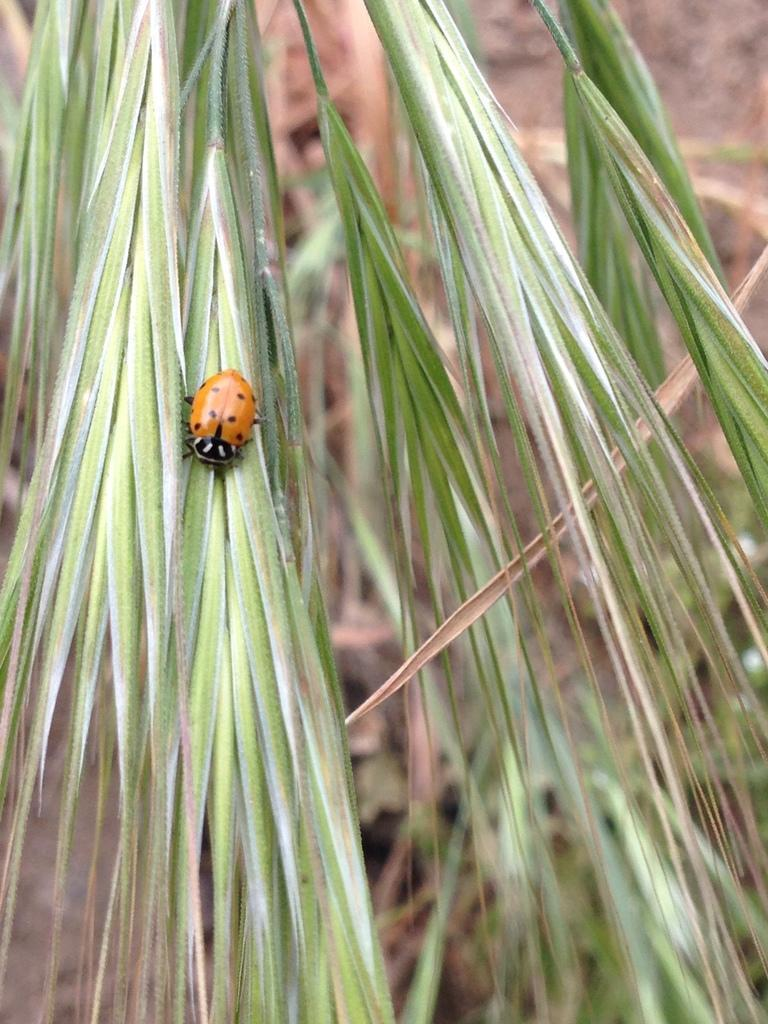ladybug: (179, 366, 271, 481)
